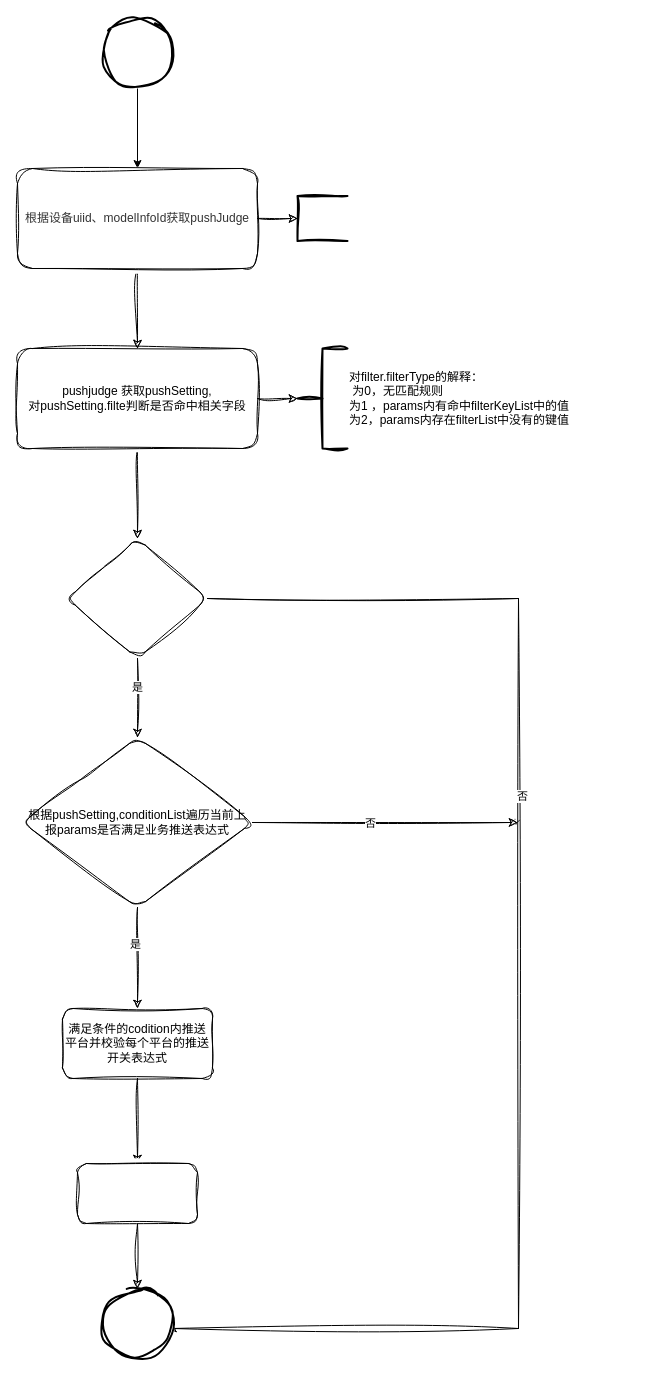
The diagram is 672 pixels wide and 1376 high, and some of its shapes have lost their labels. The shapes that lost their labels are listed below. From the top down, each one's box as (x1, y1, x2, y2) in pixels, then its label:
(296, 194, 348, 242): 获取pushjudge的优先级是先使用modelInfoId找不到再使用uiid
(66, 538, 208, 658): 是否命中filter规则
(76, 1162, 198, 1224): 推送消息
